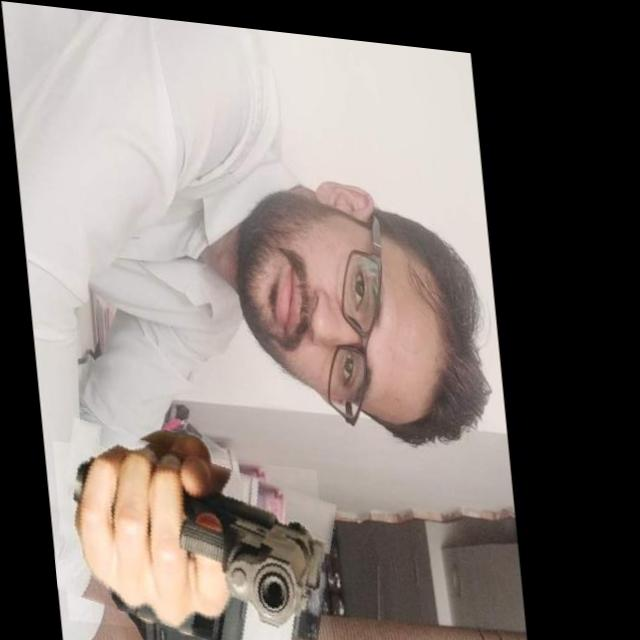handgun: (34, 426, 330, 640)
